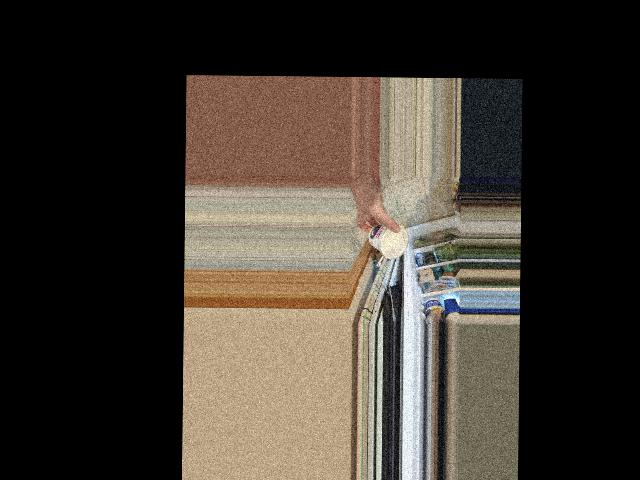cotage: (364, 218, 407, 260)
